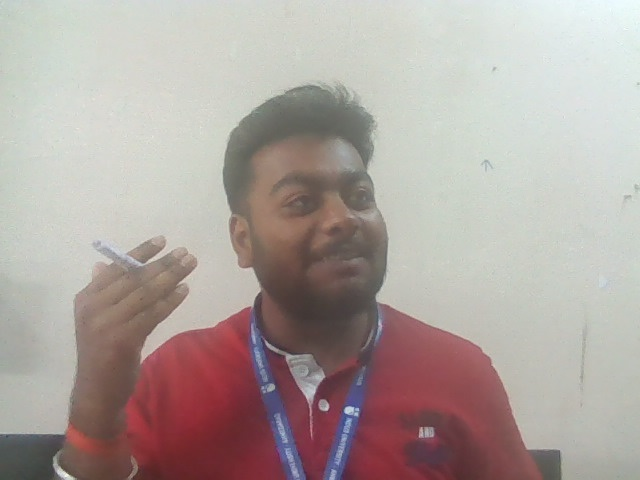smoking: (75, 231, 195, 350)
